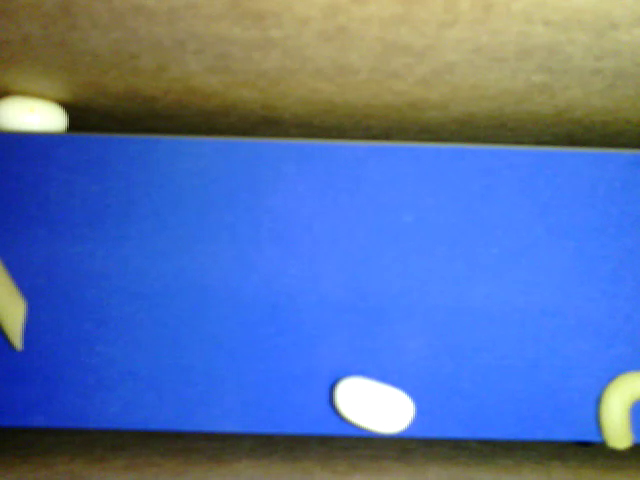elbow: (599, 369, 639, 448)
penne: (1, 261, 30, 352)
